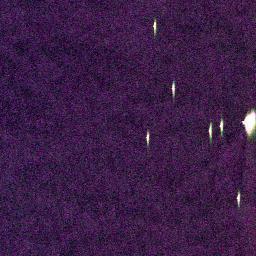Ship: (241, 108, 255, 137), (143, 127, 153, 149), (234, 188, 243, 209), (169, 79, 179, 97), (150, 18, 159, 33), (206, 122, 213, 140), (218, 116, 224, 137)
